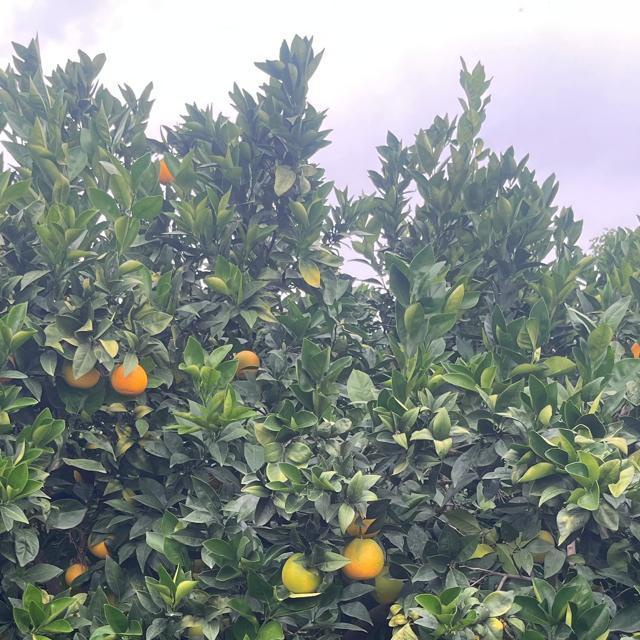orange: (340, 534, 384, 580), (279, 552, 321, 594), (368, 562, 404, 604), (110, 360, 148, 396), (60, 364, 106, 388), (346, 508, 382, 536), (529, 529, 555, 563), (233, 348, 259, 380), (87, 531, 115, 559), (64, 562, 88, 586), (157, 157, 177, 185), (628, 340, 640, 366), (464, 634, 510, 640)
